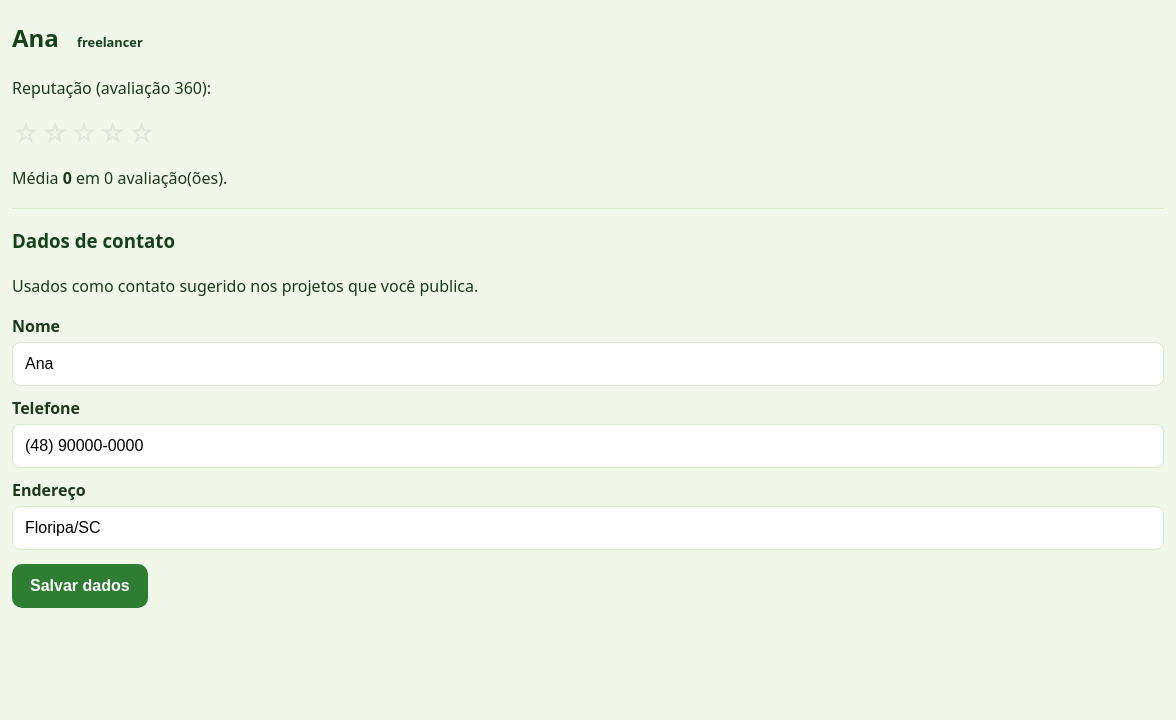
Test: @interface Perfil › mostra a mensagem de erro quando o salvamento falha
Click the button with test id "salvar-perfil" at (80, 586), box [12,564,148,608]
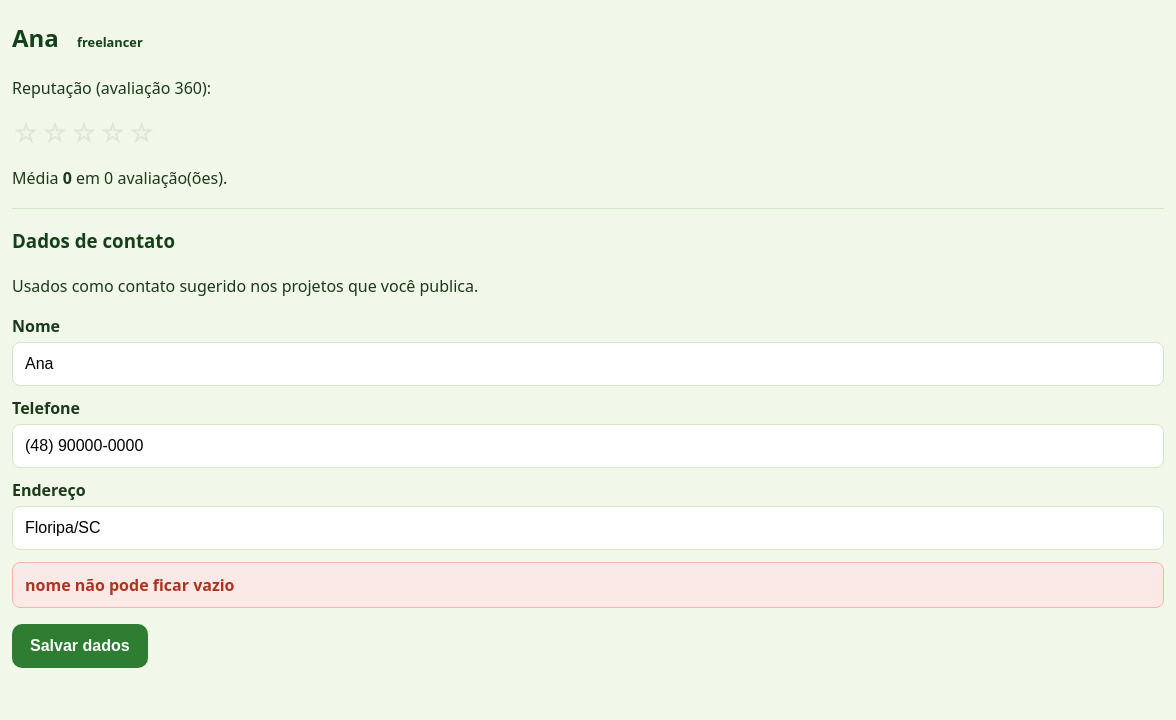
Expected: the text "nome não pode ficar vazio" is shown, [12,562,1164,608]
